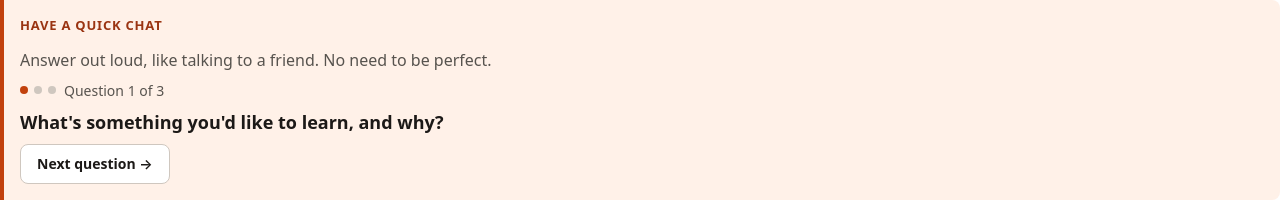
Test case: QuickChat › waits for the recording, then moves through the questions to the last one
Later steps or results of the test are not shown.
Expected: the text "Question 1 of 3" is shown, top-left (64, 80), bottom-right (164, 100)
Click the button "Next question →": click(95, 164) top-left (20, 144), bottom-right (170, 184)
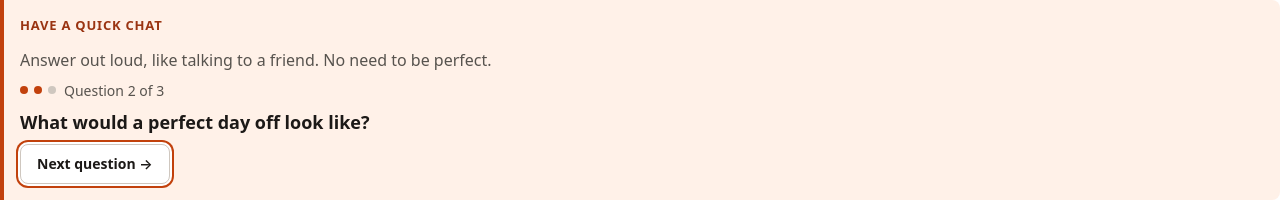
Result: the text "Question 2 of 3" is shown at top-left (64, 80), bottom-right (164, 100)
Click the button "Next question →": click(95, 164) top-left (20, 144), bottom-right (170, 184)
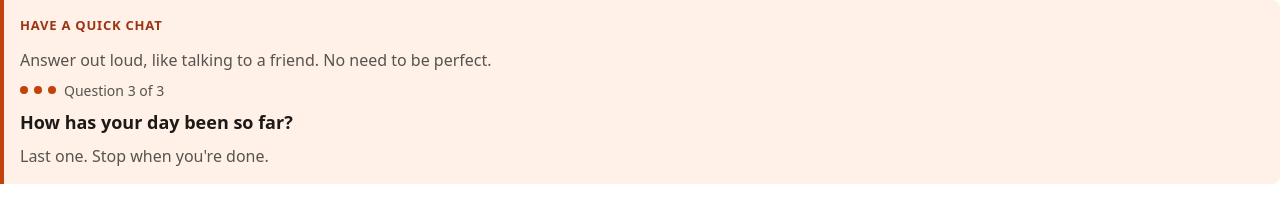
Result: the text "Question 3 of 3" is shown at top-left (64, 80), bottom-right (164, 100)
Result: the text "Last one. Stop when you're done." is shown at top-left (20, 144), bottom-right (269, 166)
Result: the button "Next question" is gone
